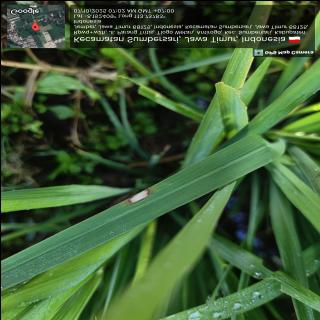Blast: (123, 184, 157, 207)
